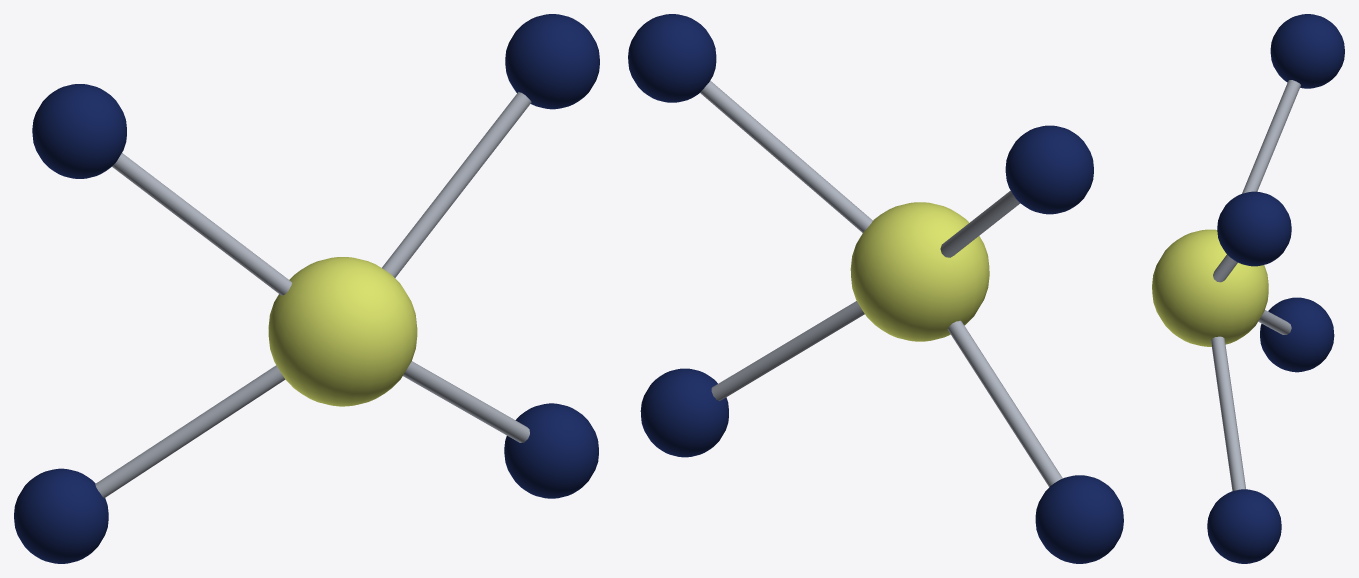
3 views of the same model, side by side, from view 1: azimuth 30°, elevation 25°; view 2: azimuth 150°, elevation 25°; view 3: azimuth 270°, elevation 25° (orthographic). The views are drawn at different scales.
Visible parts, largest first — view 1: signal node (×5), buying-group connection (×4); view 2: signal node (×5), buying-group connection (×4); view 3: signal node (×5), buying-group connection (×4).
Boxes of the visible parts, x1,y1,x2,y2 form: signal node (×5): (14,14,599,563); buying-group connection (×4): (95,92,531,498); signal node (×5): (628,14,1123,563); buying-group connection (×4): (700,80,1062,487); signal node (×5): (1152,14,1344,563); buying-group connection (×4): (1211,80,1300,491).
Size of the model in its own units: 1.85 by 1.56 by 0.7216.
